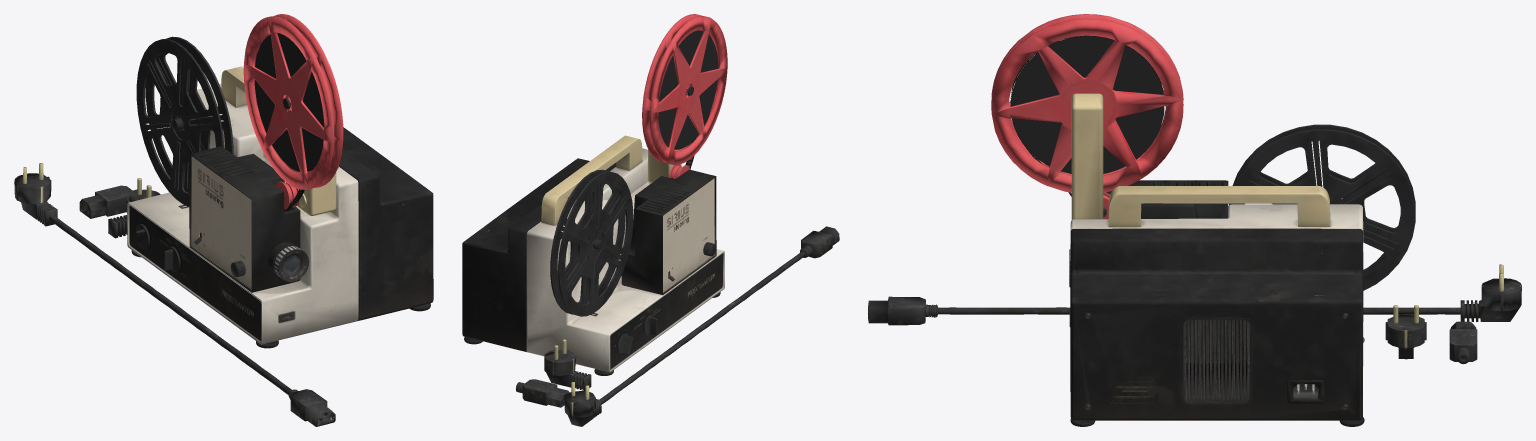
The model's file is filmstrip_projector_8mm_1k.glb.
3 views of the same model, side by side, from view 1: azimuth 30°, elevation 25°; view 2: azimuth 150°, elevation 25°; view 3: azimuth 270°, elevation 25° (orthographic). The views are drawn at different scales.
Visible parts, largest first — view 1: filmstrip_projector_8mm, filmstrip_projector_8mm_spool_feed, filmstrip_projector_8mm_spool_takeup, filmstrip_projector_8mm_cable, filmstrip_projector_8mm_01_film_side, filmstrip_projector_8mm_connector, filmstrip_projector_8mm_spool_arm, filmstrip_projector_8mm_schuko; view 2: filmstrip_projector_8mm, filmstrip_projector_8mm_spool_takeup, filmstrip_projector_8mm_spool_feed, filmstrip_projector_8mm_cable, filmstrip_projector_8mm_01_film_side, filmstrip_projector_8mm_schuko, filmstrip_projector_8mm_connector, filmstrip_projector_8mm_spool_arm; view 3: filmstrip_projector_8mm, filmstrip_projector_8mm_spool_feed, filmstrip_projector_8mm_spool_takeup, filmstrip_projector_8mm_01_film_side, filmstrip_projector_8mm_cable, filmstrip_projector_8mm_spool_arm, filmstrip_projector_8mm_schuko, filmstrip_projector_8mm_connector.
Boxes of the visible parts, x1,y1,x2,y2 form: filmstrip_projector_8mm: (127,66,433,348); filmstrip_projector_8mm_spool_feed: (243,14,343,189); filmstrip_projector_8mm_spool_takeup: (136,36,233,206); filmstrip_projector_8mm_cable: (14,163,335,426); filmstrip_projector_8mm_01_film_side: (254,33,324,171); filmstrip_projector_8mm_connector: (79,185,137,218); filmstrip_projector_8mm_spool_arm: (297,93,336,215); filmstrip_projector_8mm_schuko: (108,178,160,238); filmstrip_projector_8mm: (462,135,724,375); filmstrip_projector_8mm_spool_takeup: (550,169,633,316); filmstrip_projector_8mm_spool_feed: (642,14,727,164); filmstrip_projector_8mm_cable: (564,226,839,426); filmstrip_projector_8mm_01_film_side: (658,30,718,149); filmstrip_projector_8mm_schuko: (544,339,591,390); filmstrip_projector_8mm_connector: (516,379,569,407); filmstrip_projector_8mm_spool_arm: (648,149,681,182); filmstrip_projector_8mm: (1069,180,1364,426); filmstrip_projector_8mm_spool_feed: (991,14,1183,192); filmstrip_projector_8mm_spool_takeup: (1229,124,1415,290); filmstrip_projector_8mm_01_film_side: (1010,36,1164,173); filmstrip_projector_8mm_cable: (868,264,1521,325); filmstrip_projector_8mm_spool_arm: (1071,93,1103,219); filmstrip_projector_8mm_schuko: (1385,305,1426,359); filmstrip_projector_8mm_connector: (1449,321,1477,364).
Size of the model in its own units: 0.2537 by 0.3454 by 0.6026.
Materials: 2 (2 with a texture image).
